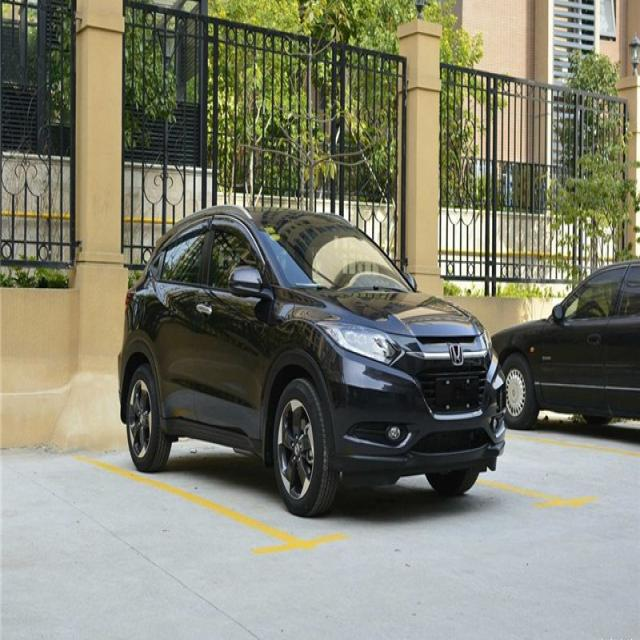door: (153, 216, 210, 428)
front_bumper: (319, 343, 506, 475)
front_glass: (248, 215, 411, 293)
front_right_side_door: (192, 212, 273, 446)
front_right_side_mirror: (316, 318, 402, 368), (228, 264, 265, 300)
wheel: (272, 378, 330, 514), (126, 363, 162, 472)
